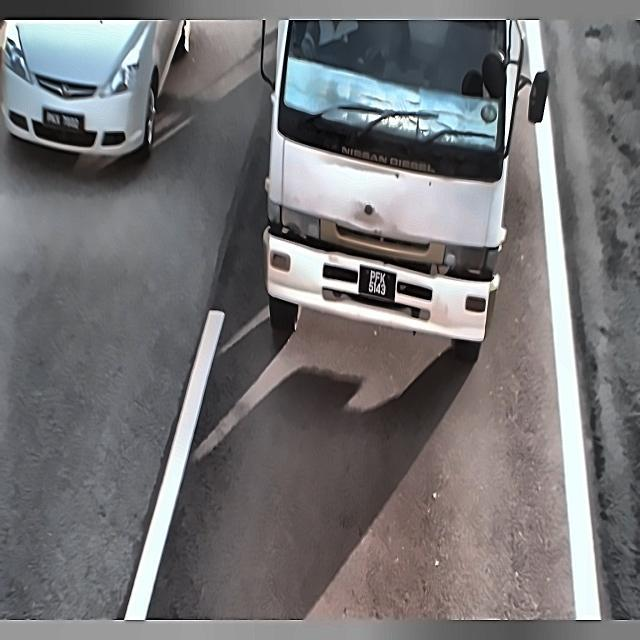car: (350, 256, 398, 310), (41, 106, 85, 144)
